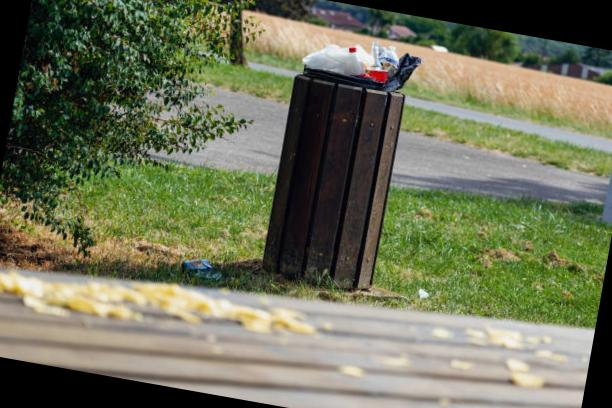trash: (282, 30, 432, 102), (176, 251, 226, 289), (413, 282, 444, 314)
trash_can_overflow: (214, 10, 444, 304)
